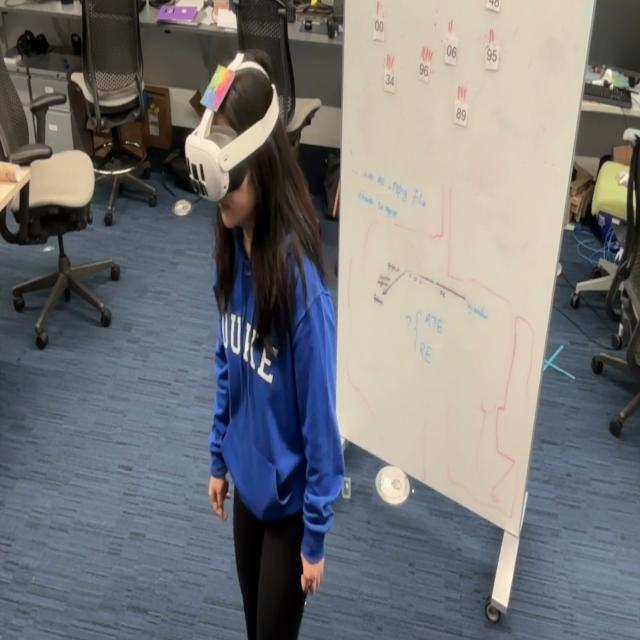Headset: (184, 58, 280, 203)
Marker: (198, 59, 235, 114)
